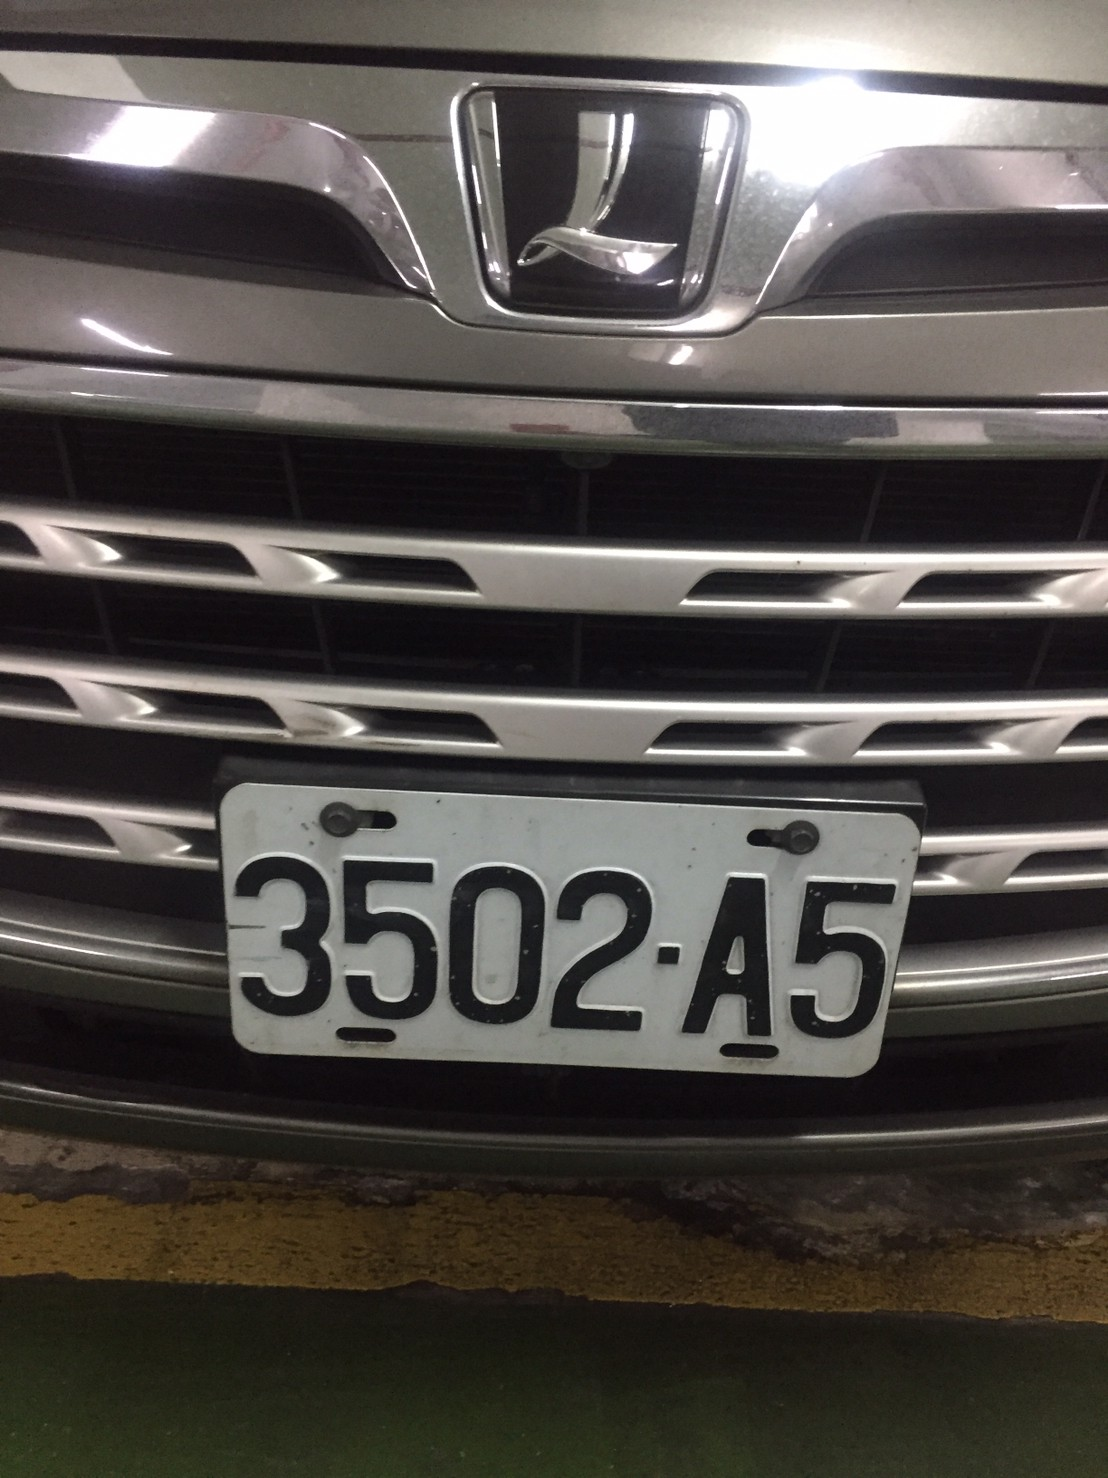LP: (213, 772, 929, 1083)
